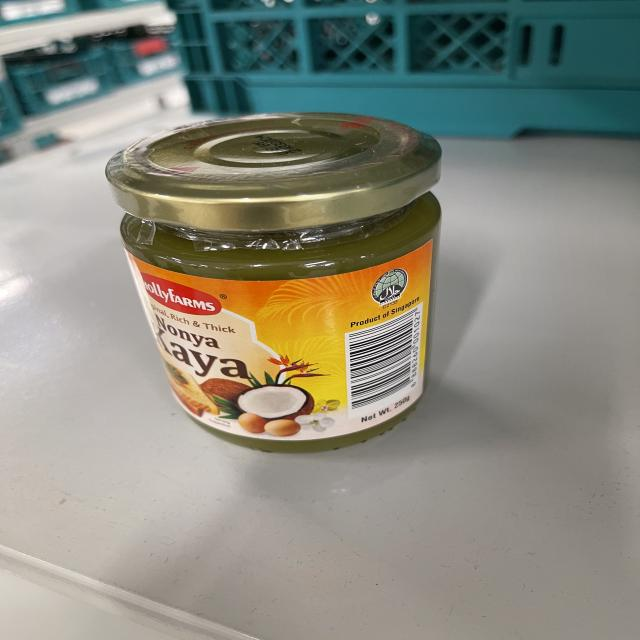object_name: (105, 131, 439, 459)
